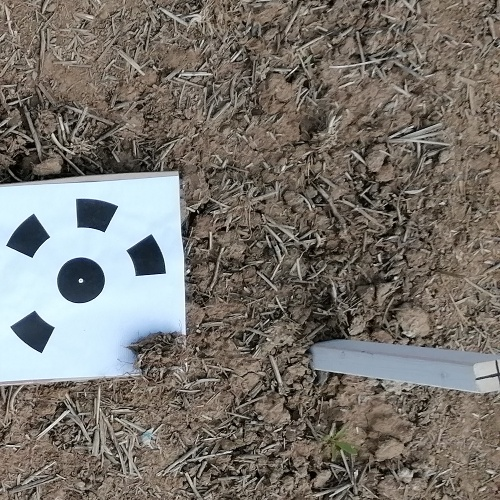beet: (325, 430, 358, 462)
